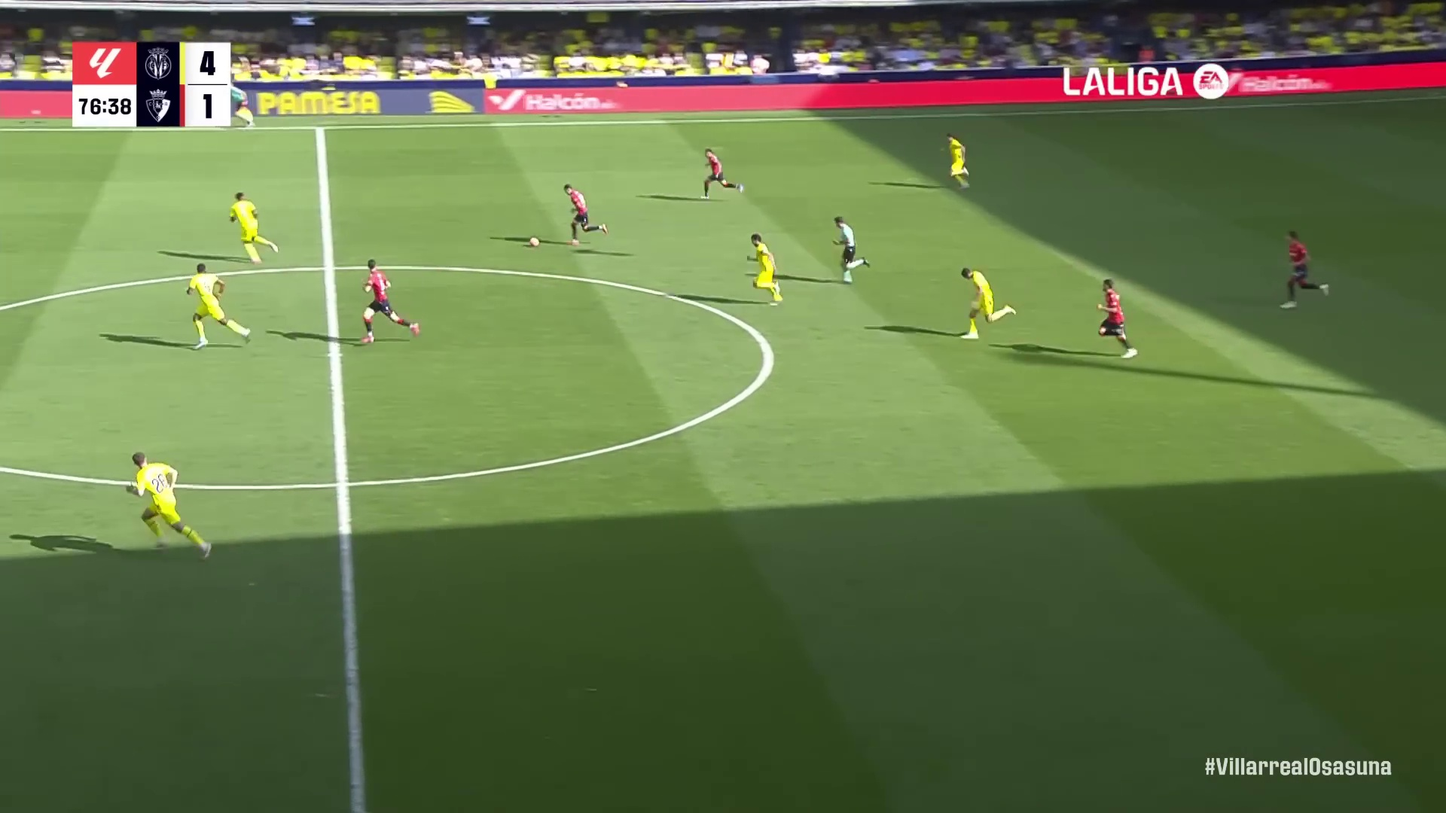ball: (527, 237, 539, 248)
player: (121, 450, 216, 560), (181, 260, 252, 352), (356, 258, 420, 346), (955, 265, 1020, 341), (1274, 230, 1333, 311), (1091, 278, 1141, 362), (226, 190, 281, 265), (560, 183, 611, 249), (742, 232, 786, 308), (696, 148, 746, 201), (942, 132, 976, 192)
referee: (829, 215, 874, 286), (226, 57, 258, 131)
